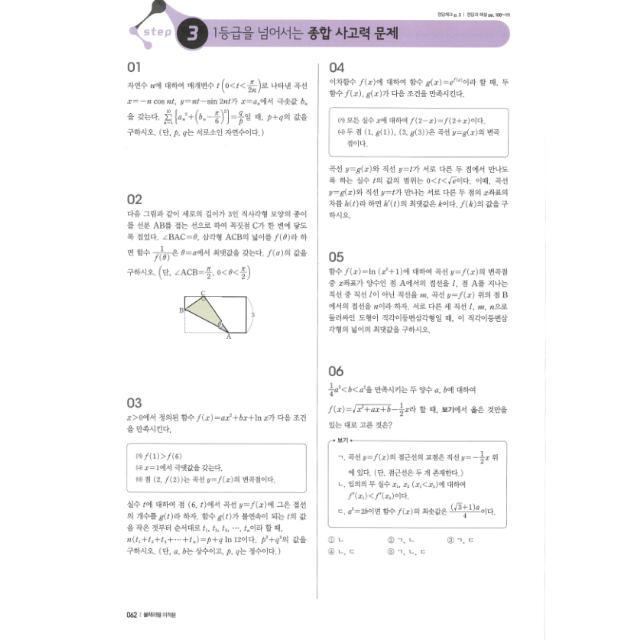multiple: (321, 358, 521, 568)
short: (116, 389, 312, 565), (323, 55, 517, 225), (118, 186, 312, 350), (119, 55, 314, 152), (323, 244, 515, 340)
